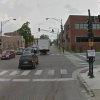Crosswalk: (4, 64, 69, 87)
